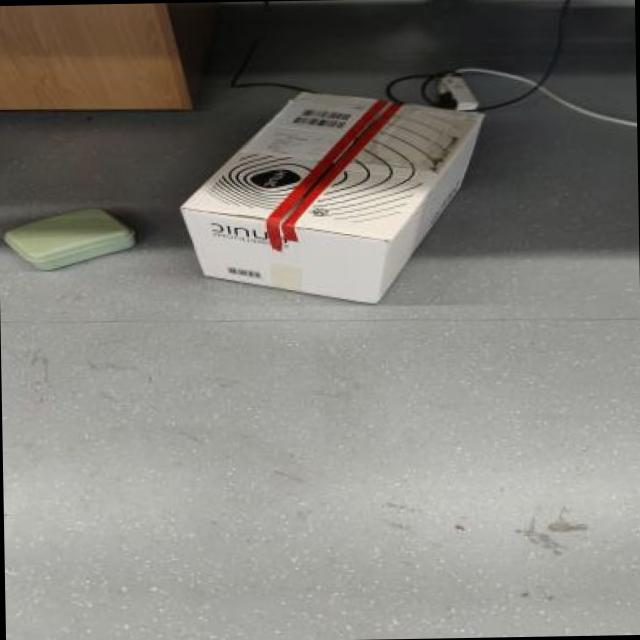box: (173, 74, 500, 315), (0, 188, 145, 282)
